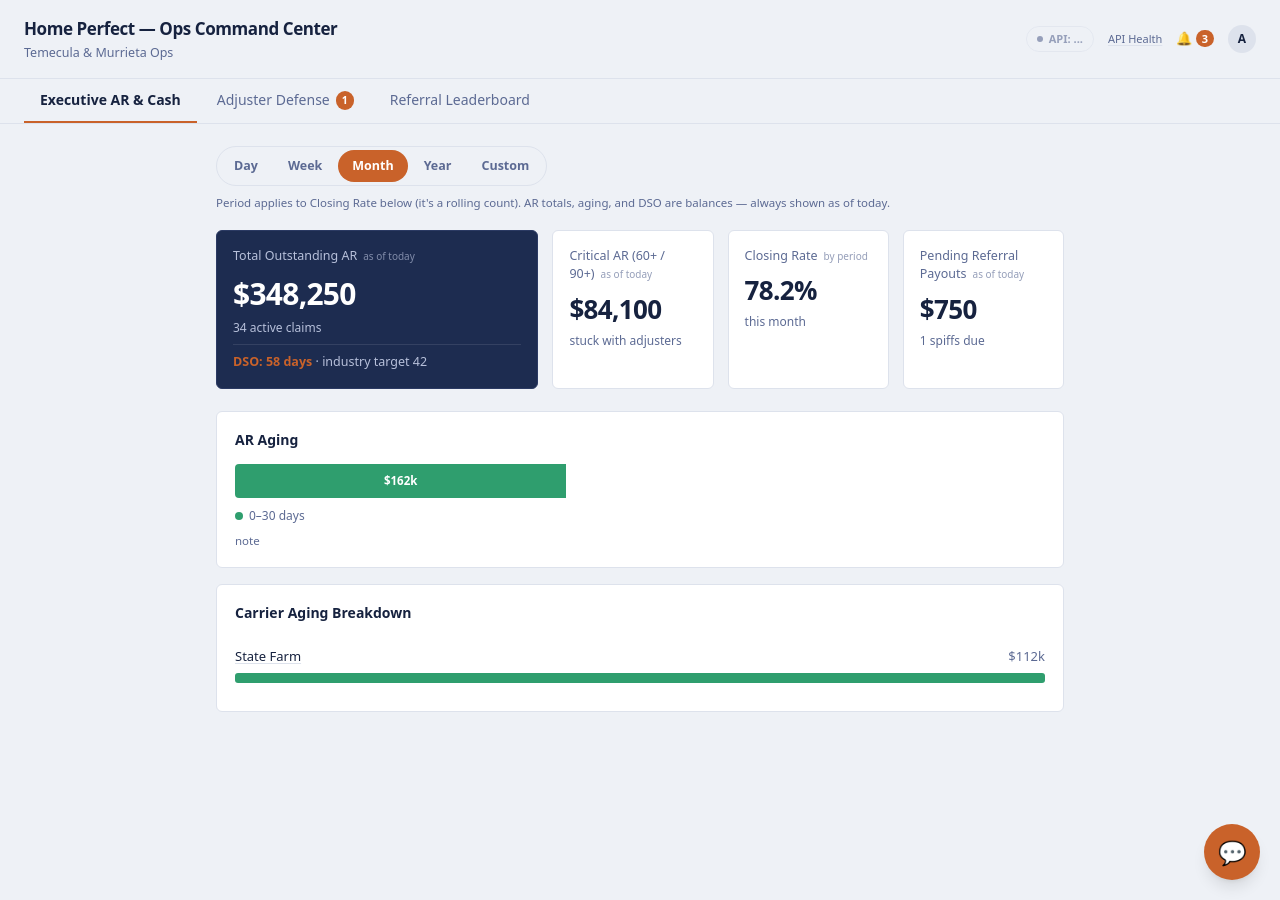
Test: DashboardShell › switches to the Adjuster Defense view on tab click
This screenshot has width=1280, height=900.
Click the tab "Adjuster Defense 1" at point(285, 101), box [201,79,370,123]
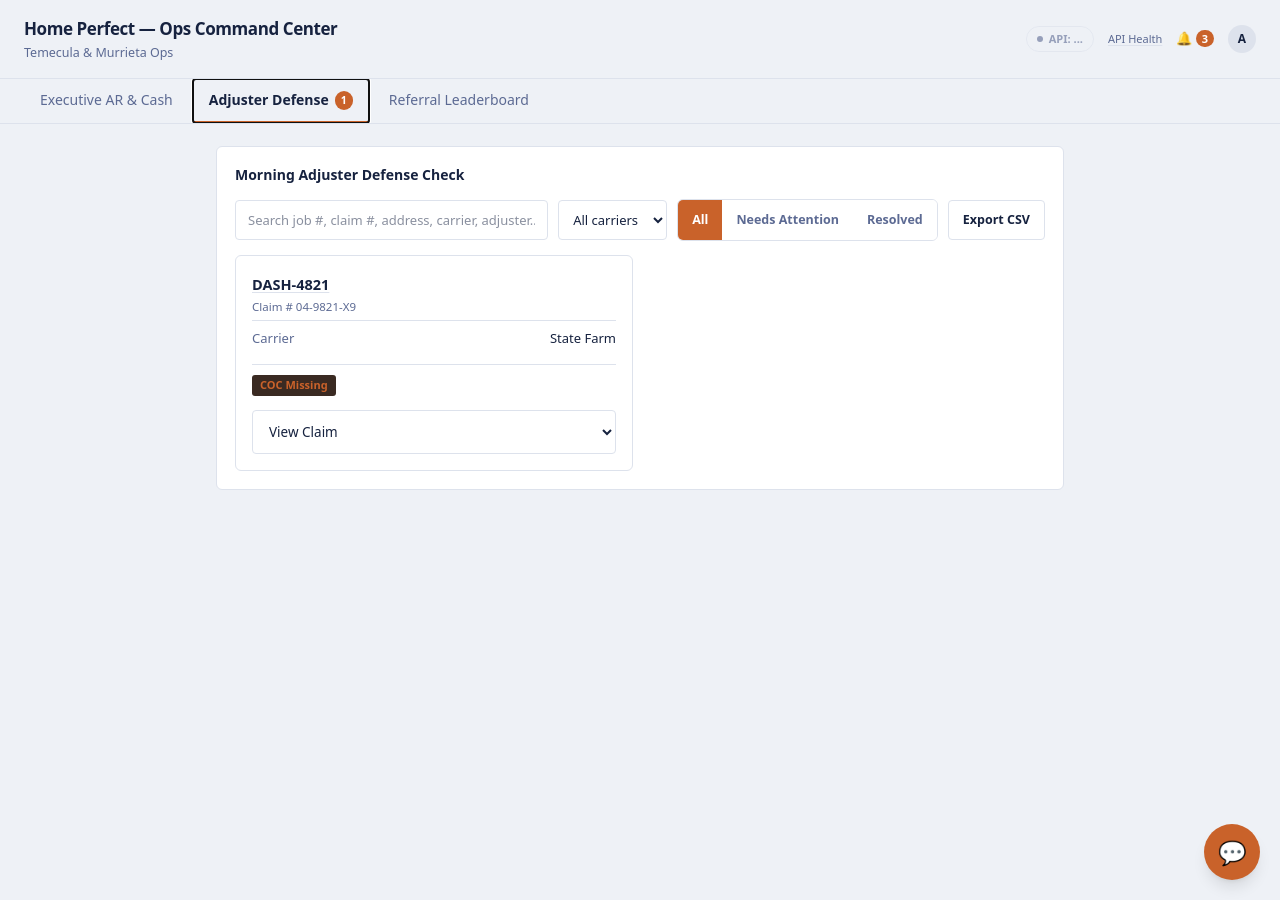
Expected: the button "DASH-4821" is shown, [252,274,329,296]
